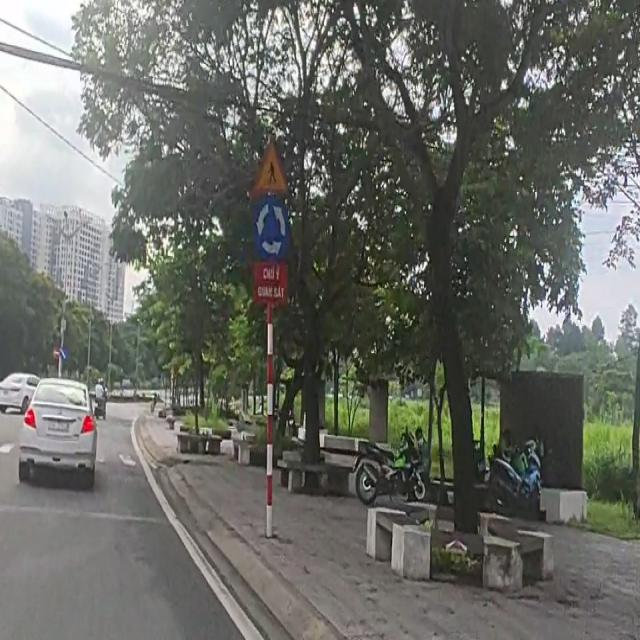Bien bao duong nguoi di bo cat ngang: (252, 129, 292, 198)
Bien bao noi giao nhau chay theo vong xuyen: (254, 198, 290, 260)
